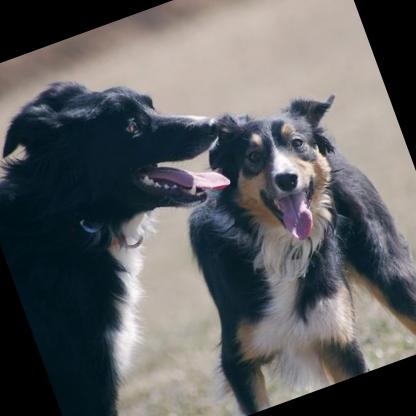collie: (0, 27, 317, 416), (137, 63, 416, 416)
